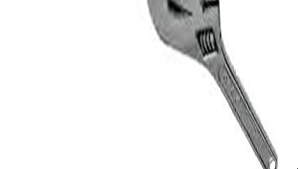wrench: (144, 2, 286, 169)
